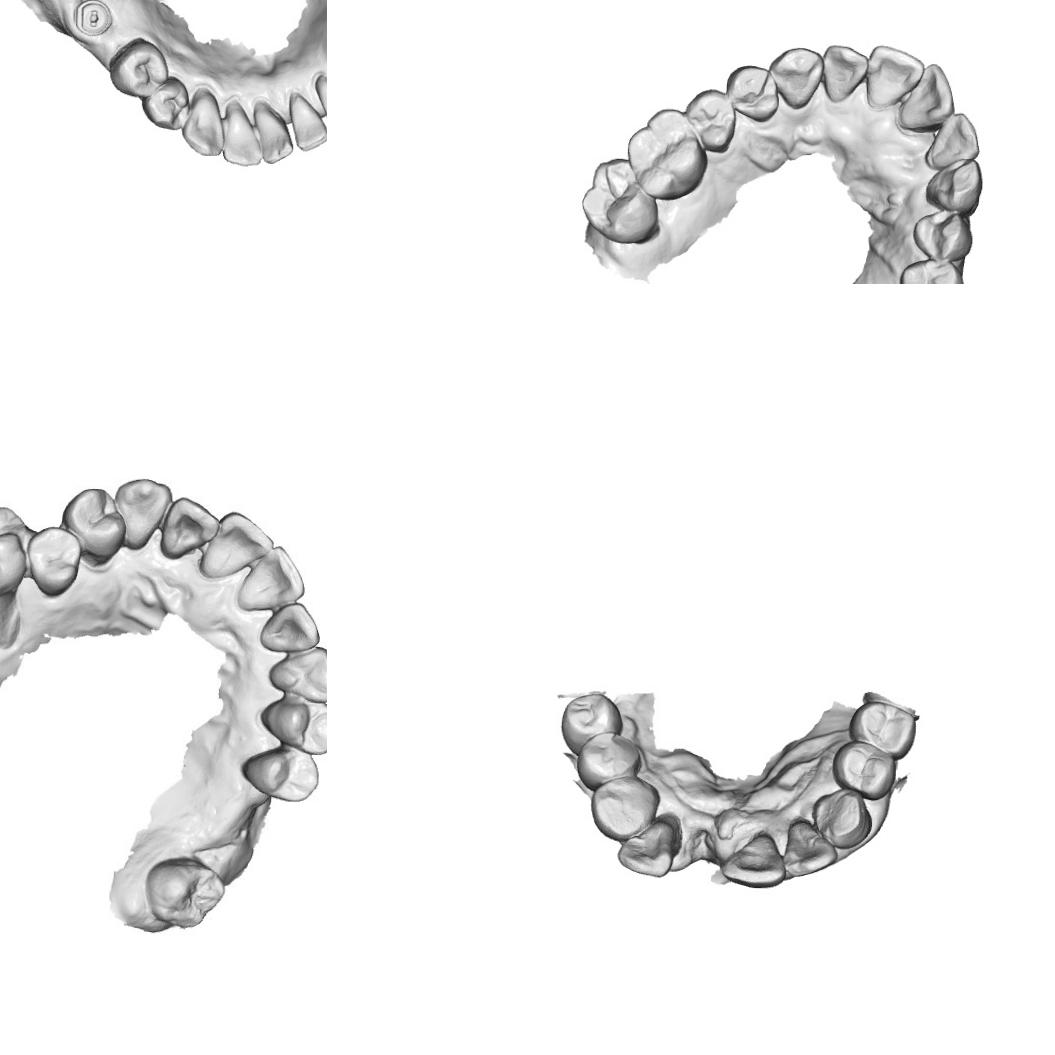canine: (616, 813, 679, 879), (810, 786, 873, 850), (768, 42, 824, 113), (115, 477, 168, 550), (924, 156, 984, 215), (267, 645, 327, 703), (180, 88, 225, 160)
implant_minus: (72, 0, 115, 38)
incisor: (896, 62, 957, 131), (863, 42, 925, 108), (720, 831, 788, 890), (206, 512, 270, 574), (781, 815, 839, 878), (922, 111, 982, 170), (242, 547, 302, 605), (820, 38, 870, 106), (222, 99, 266, 170), (252, 100, 296, 166), (164, 499, 219, 550), (261, 608, 323, 650), (286, 92, 327, 153), (313, 73, 327, 136)
molar: (624, 106, 712, 202), (578, 154, 662, 246), (142, 851, 225, 932), (560, 692, 623, 758), (0, 509, 24, 596)
premolar: (589, 773, 662, 843), (63, 484, 126, 562), (21, 522, 80, 596), (848, 699, 916, 762), (106, 36, 171, 101), (576, 730, 643, 793), (830, 739, 896, 802), (242, 750, 319, 803), (256, 700, 327, 755), (684, 86, 737, 158), (725, 62, 781, 124), (910, 210, 975, 262), (142, 73, 192, 132), (897, 258, 963, 284)
